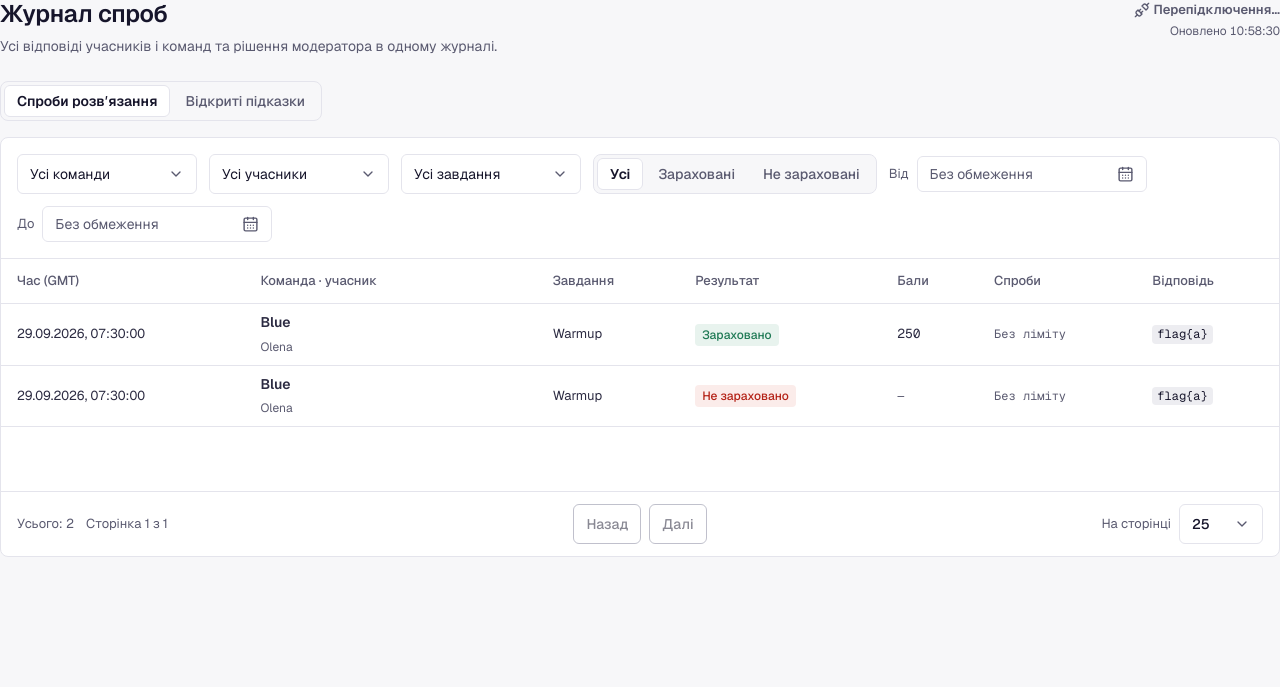
Scenario: Журнал спроб › lists attempts with result, points and answers for managers
The image size is (1280, 687).
Check: the number of rows is 3, box [1,259,1279,304]; [1,304,1279,366]; [1,366,1279,427]
Check: the column heading "Відповідь" is shown, box [1136,259,1279,304]
Click the button "Не зараховані" at (811, 174), box [750,158,873,190]
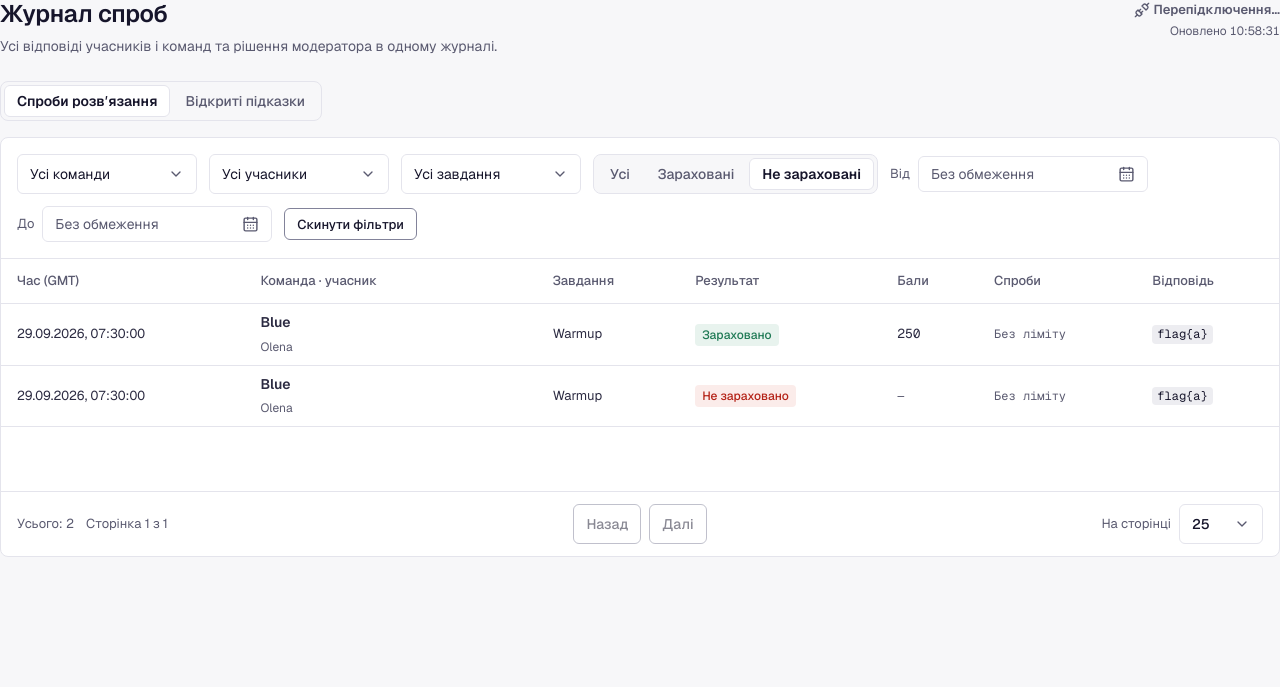
Press Enter in the row named "Відкрити спробу: Warmup, Blue", box [1,304,1279,366]
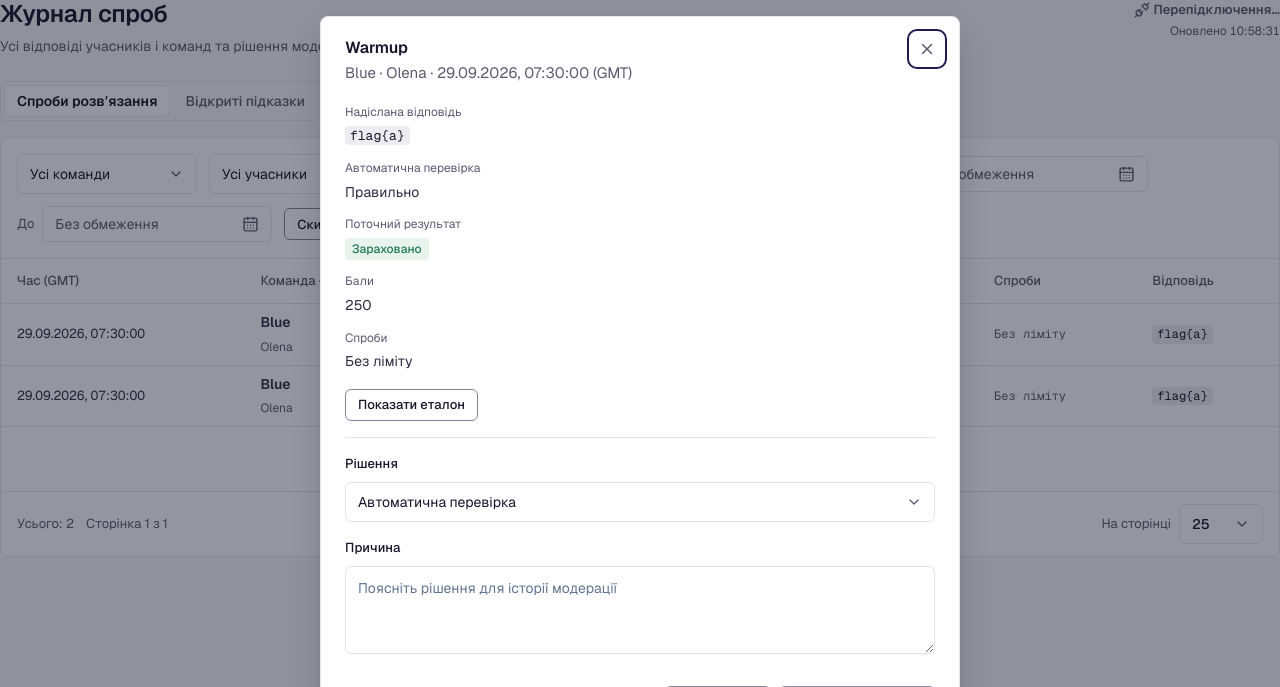
Check: the button "Показати еталон" is shown, box [345,389,478,421]
